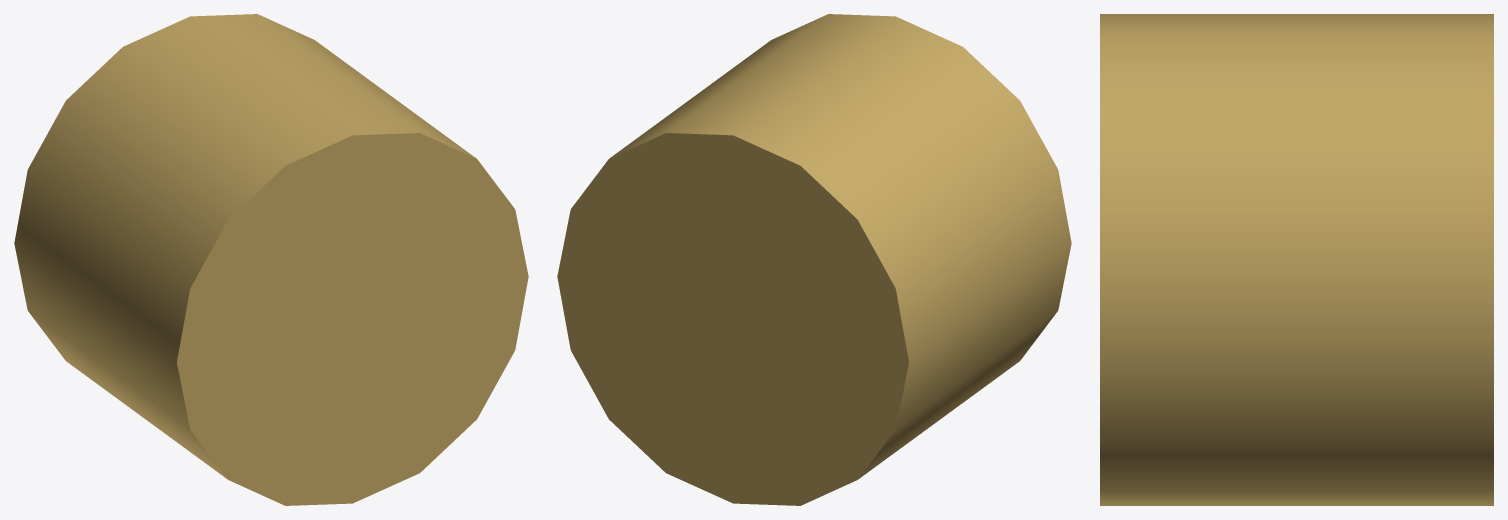
The model's file is tf_round_hay_bale.glb.
3 views of the same model, side by side, from view 1: azimuth 30°, elevation 25°; view 2: azimuth 150°, elevation 25°; view 3: azimuth 270°, elevation 25° (orthographic). The views are drawn at different scales.
Visible parts, largest first — view 1: tf_round_hay_bale; view 2: tf_round_hay_bale; view 3: tf_round_hay_bale.
Part boxes in pixels (x1=…): tf_round_hay_bale: x1=14, y1=14, x2=528, y2=505; tf_round_hay_bale: x1=557, y1=14, x2=1071, y2=505; tf_round_hay_bale: x1=1100, y1=14, x2=1493, y2=505.
Size of the model in its own units: 1.5 by 1.5 by 1.2.
